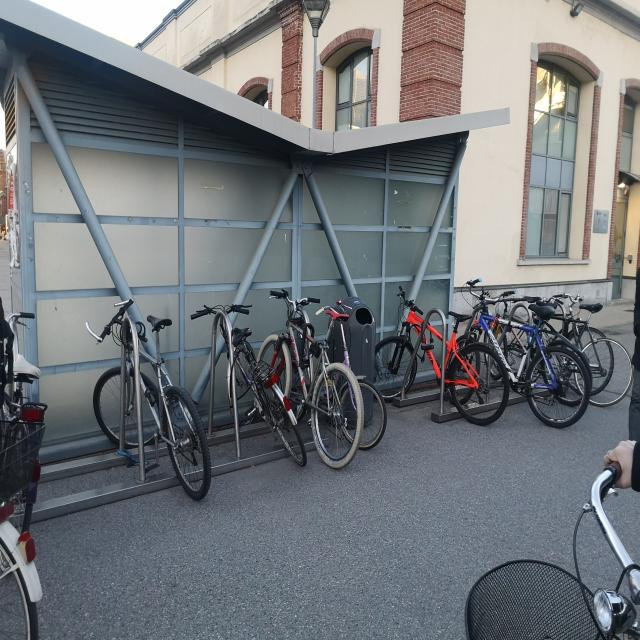Bicycle: (74, 294, 209, 518), (168, 290, 305, 497), (260, 276, 360, 488), (379, 281, 508, 443), (472, 276, 582, 436), (309, 293, 388, 466), (528, 290, 624, 415), (556, 290, 615, 394)
